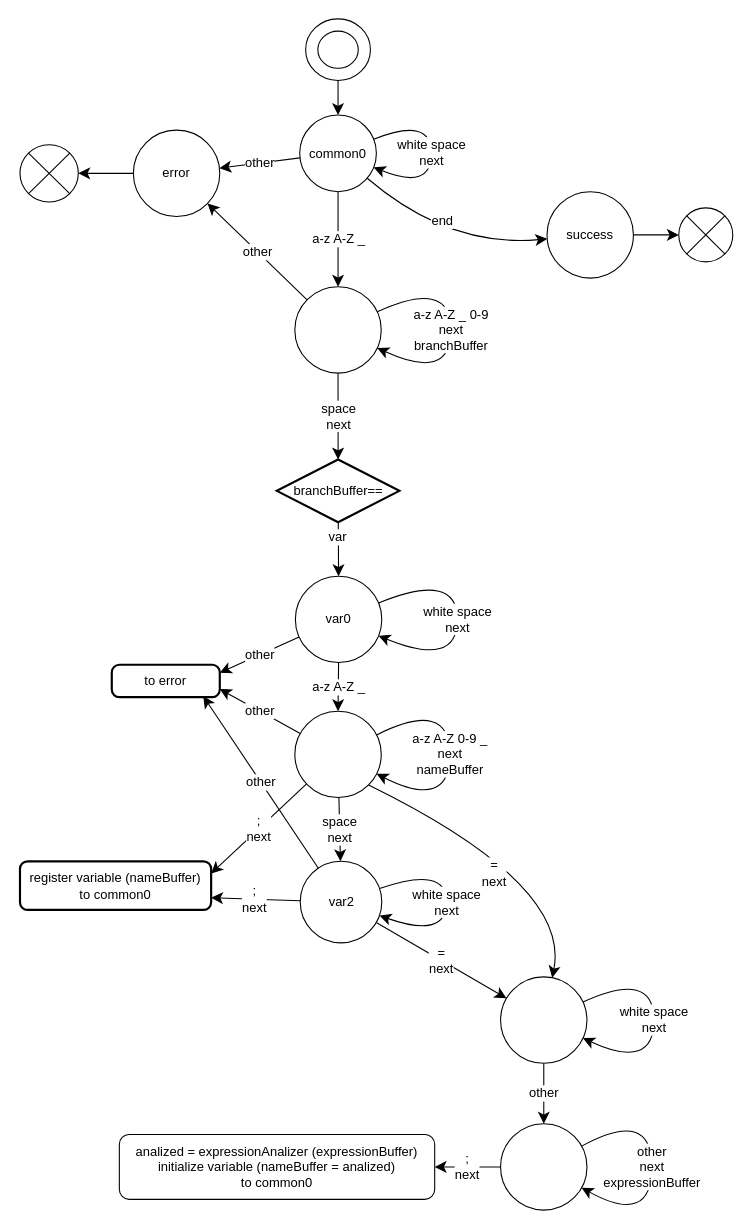
This 752x1229 diagram has some shape labels left out. Here are the shapes that lost their labels. From the top down, the centre of each, then its label:
At (x=337, y=329): "common1".
At (x=337, y=754): "var1".
At (x=543, y=1019): "var3".
At (x=543, y=1166): "var4".
